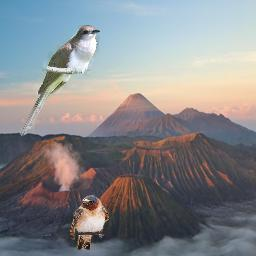Cuckoo: (19, 25, 100, 136)
Swallow: (70, 195, 109, 250)
